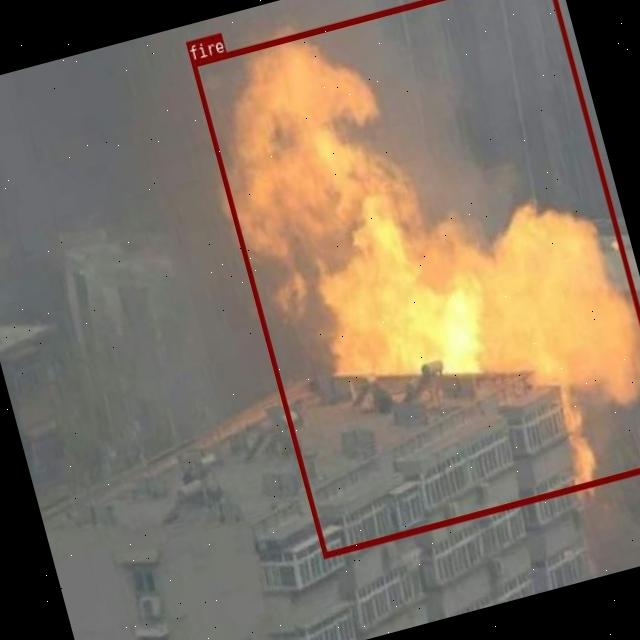fire: (189, 0, 640, 556)
